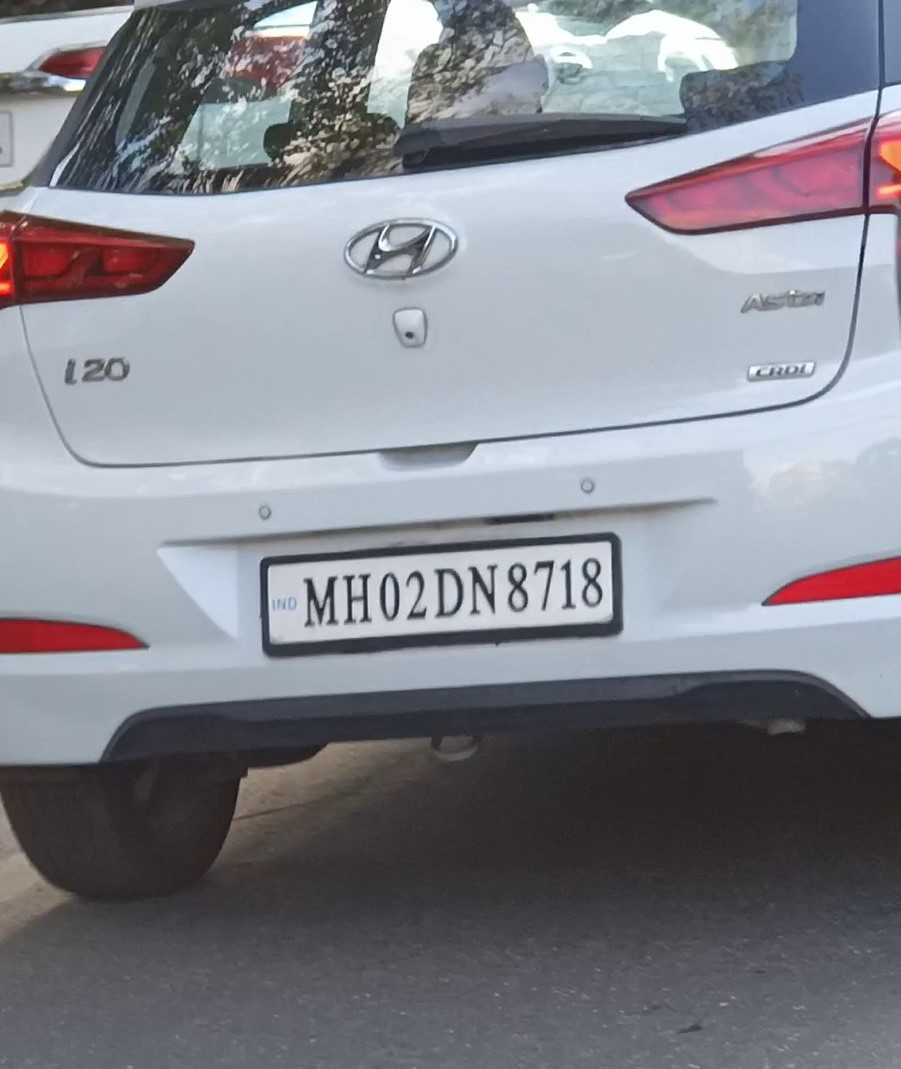MH02DN8718: (265, 539, 615, 645)
